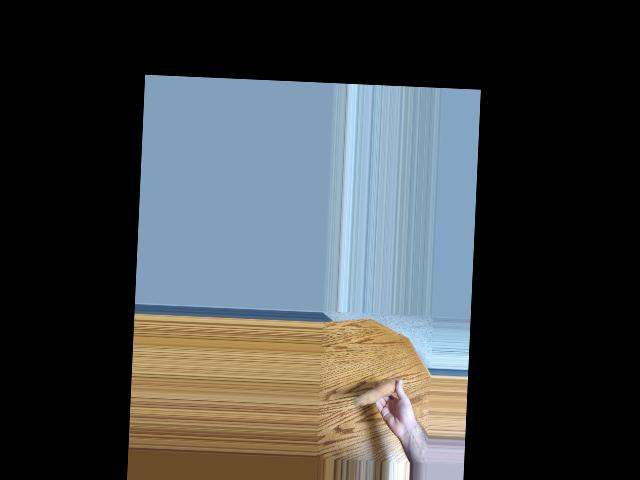sweet_potato: (351, 375, 405, 412)
